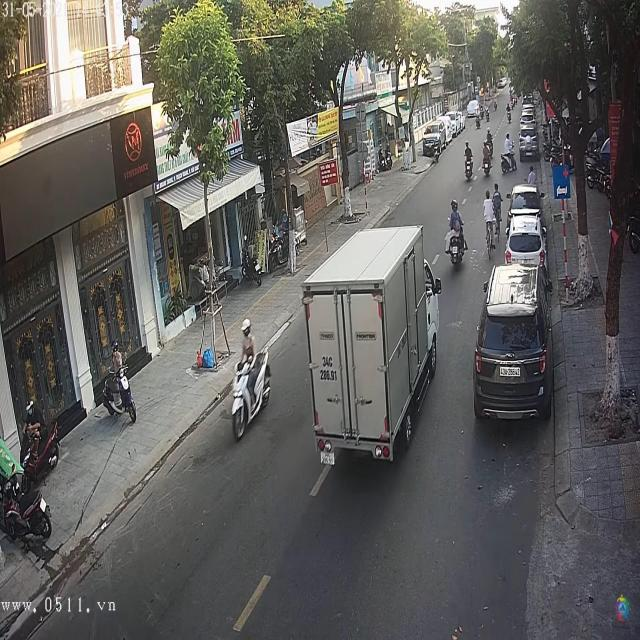bus: (301, 222, 440, 468)
car: (474, 261, 553, 421), (505, 224, 546, 268), (509, 184, 543, 220), (520, 126, 541, 164)
motorcycle: (231, 354, 272, 443), (445, 225, 468, 267), (499, 146, 518, 176), (464, 153, 474, 186)
